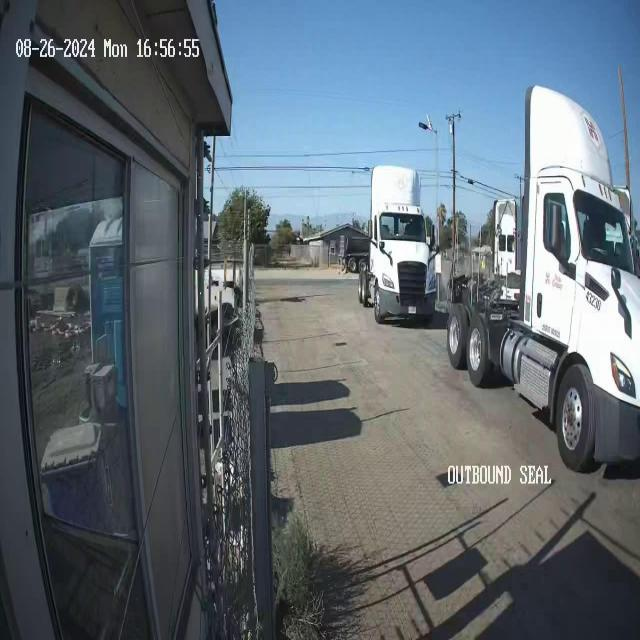TRUCK_IN: (442, 85, 637, 479), (357, 163, 439, 324)
